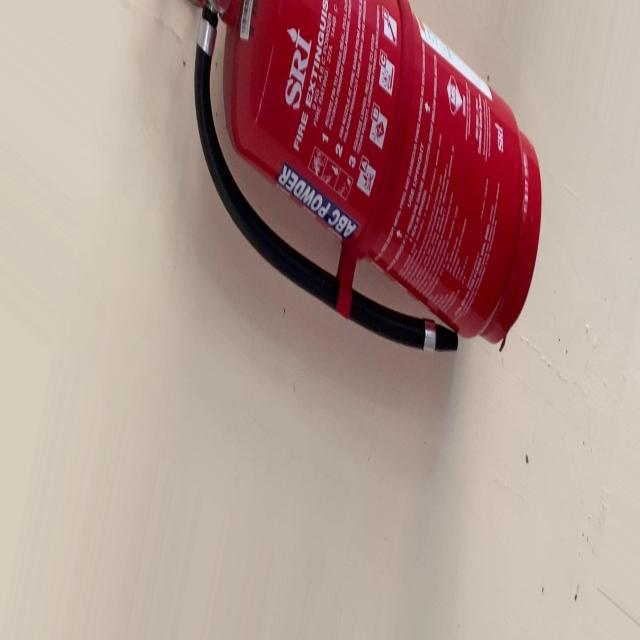fire_extinguisher: (187, 0, 544, 356)
